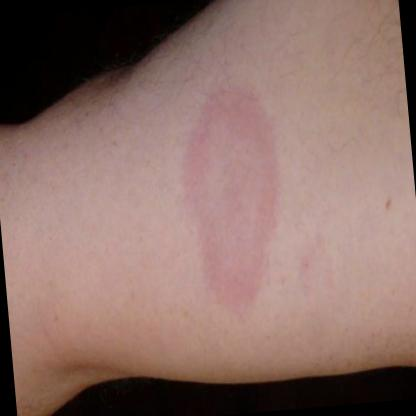Ringworm: (162, 63, 315, 332)
